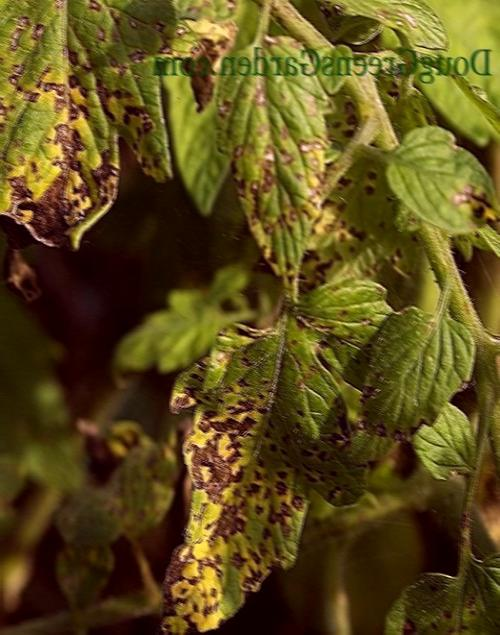Tomato Septoria leaf spot: (152, 308, 334, 635), (7, 8, 174, 255), (215, 41, 329, 307)
